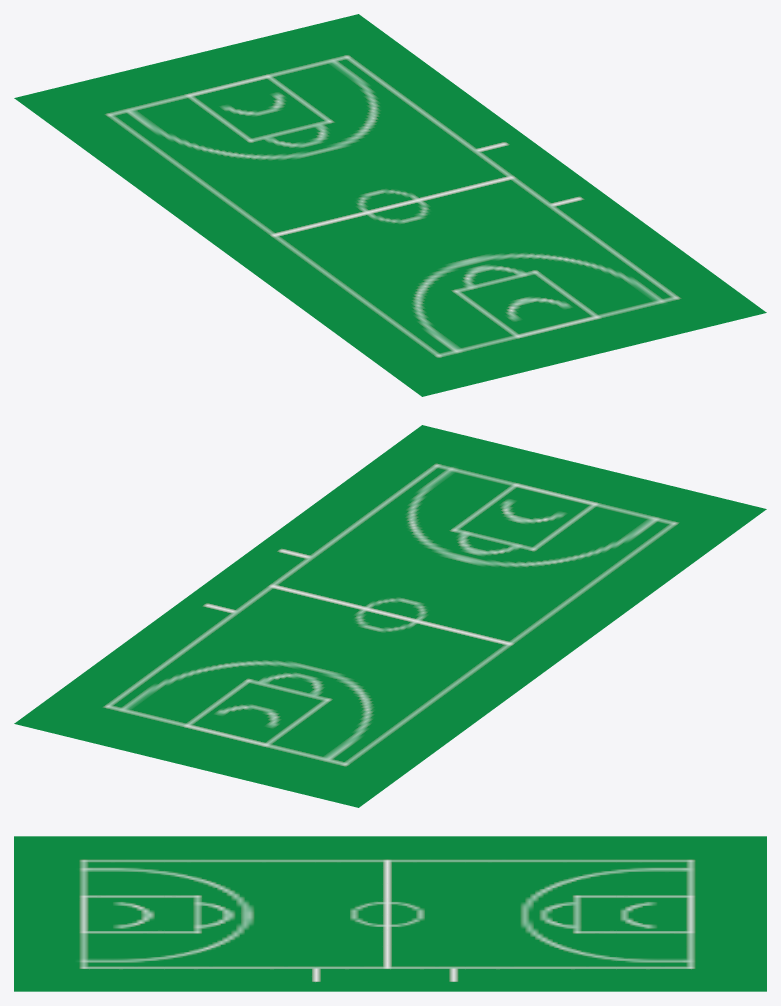
3 renders of one model, top to bottom at view 1: azimuth 30°, elevation 25°; view 2: azimuth 150°, elevation 25°; view 3: azimuth 270°, elevation 25°, orthographic. The views are drawn at different scales.
Visible parts, largest first — view 1: Field_05; view 2: Field_05; view 3: Field_05.
Boxes of the visible parts, x1,y1,x2,y2 form: Field_05: (14,14,766,396); Field_05: (14,425,766,807); Field_05: (14,836,766,991).
Bounding box in the file's own units: 1.29 × 0 × 2.64.
1 material, 1 textured.
